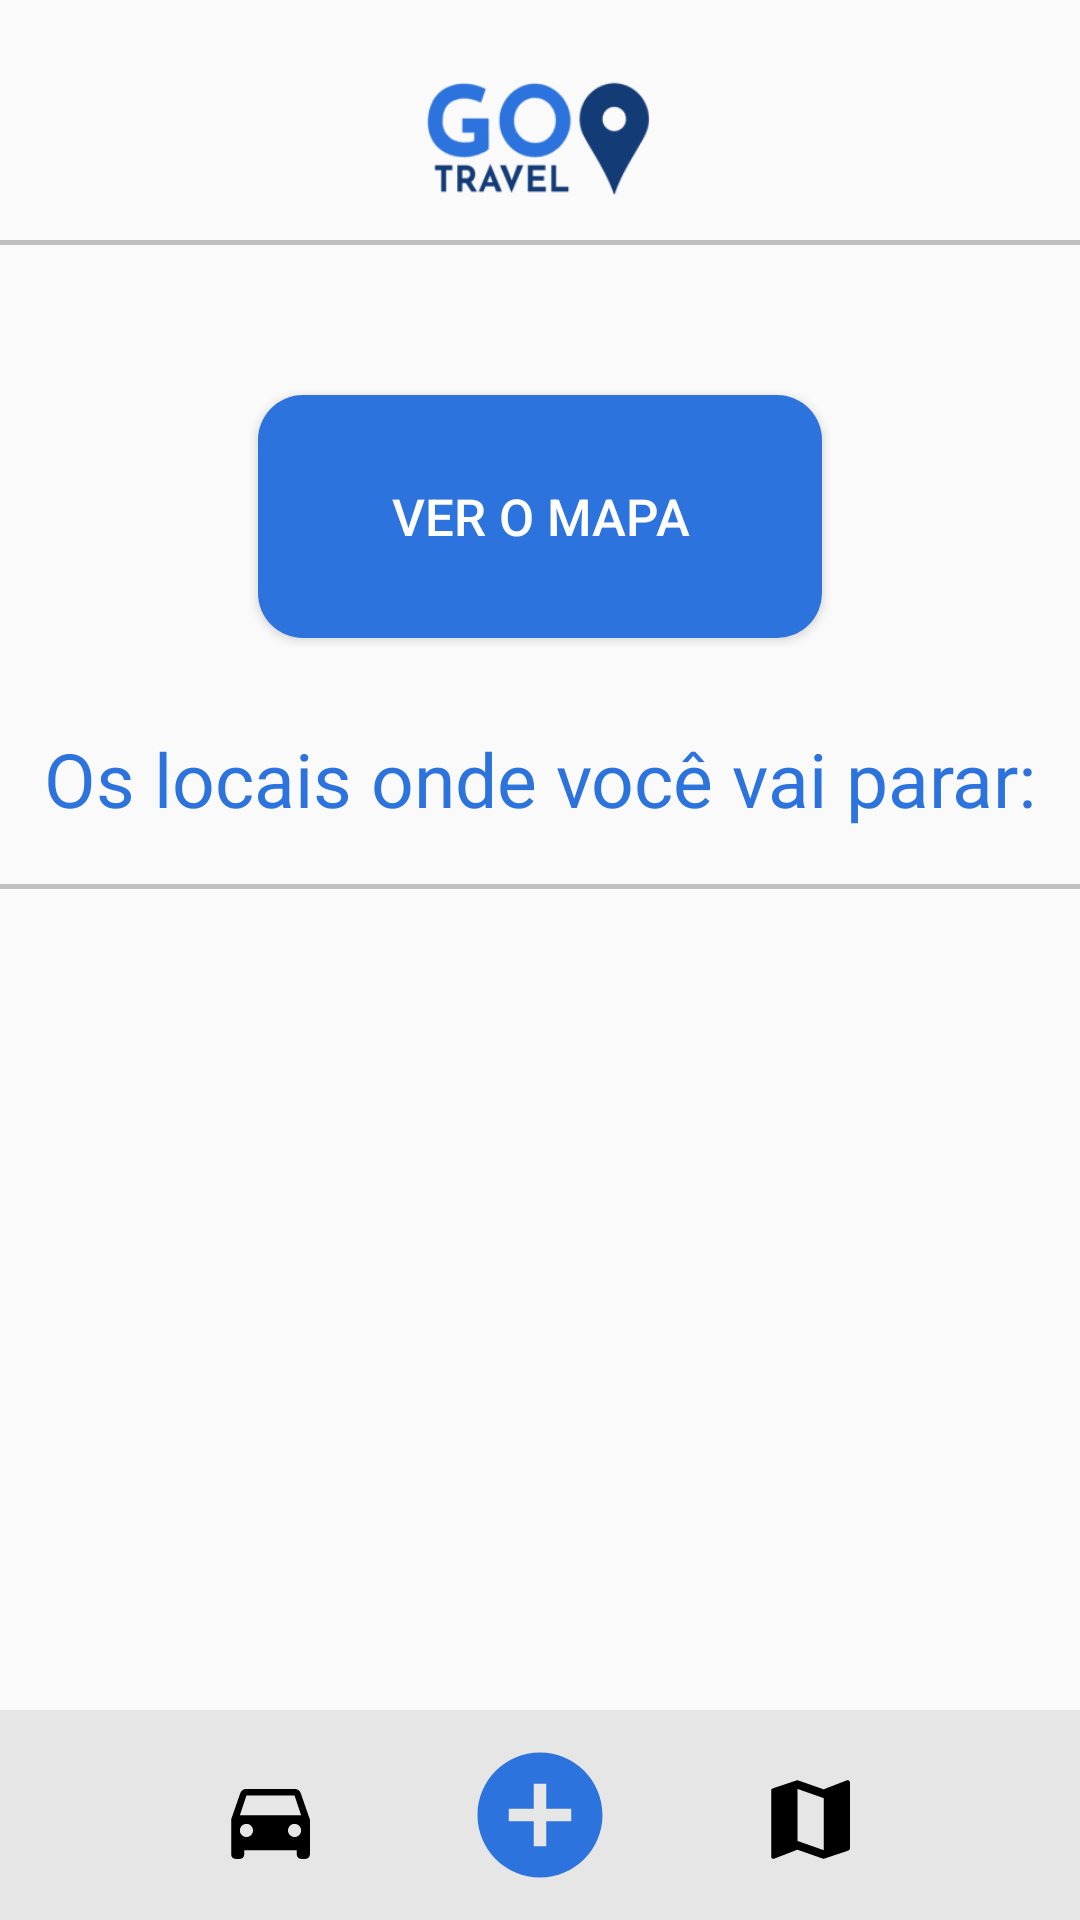

Screen size 1080px x 1920px. Icon name, then its center in pixels as point (x, y):
add circle: point (540, 1815)
directions car: point (270, 1824)
map: point (810, 1819)
